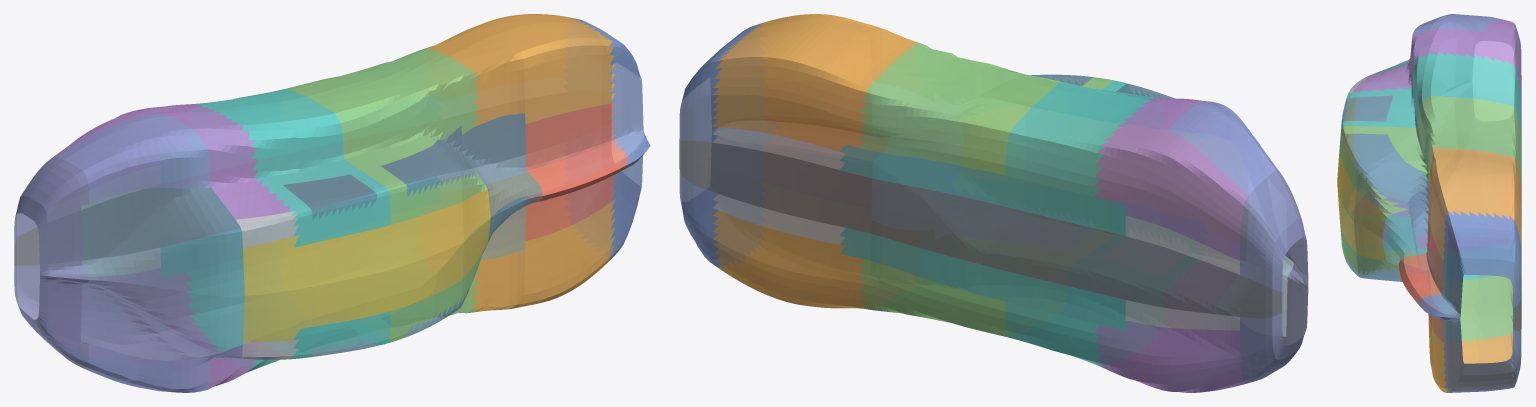
The model's file is modern_car_v2_crossover_surface_partition.glb.
3 views of the same model, side by side, from view 1: azimuth 30°, elevation 25°; view 2: azimuth 150°, elevation 25°; view 3: azimuth 270°, elevation 25° (orthographic). The views are drawn at different scales.
Visible parts, largest first — view 1: aperture_rear_glass, panel_roof, panel_front_door_right, panel_underbody, panel_front_fender_right, panel_rear_hatch, panel_rear_door_right, panel_rear_bumper, panel_front_fender_left, panel_rear_quarter_left, panel_hood, panel_rear_door_left (+8 smaller); view 2: panel_underbody, panel_front_fender_right, panel_front_door_right, panel_rear_quarter_right, panel_rear_door_right, panel_rear_bumper, panel_front_fender_left, panel_fixed_body, panel_rocker_right, panel_rocker_left, panel_rear_quarter_left, panel_front_door_left (+5 smaller); view 3: panel_front_bumper, panel_front_door_right, panel_front_fender_right, panel_rear_door_right, panel_rear_quarter_right, panel_front_door_left, aperture_rear_glass, aperture_front_side_glass_right, panel_roof, panel_hood, aperture_windshield, panel_front_fender_left (+7 smaller).
Part boxes in pixels (x1,y1,x2,y2): aperture_rear_glass: (81,187,244,360); panel_roof: (243,189,490,341); panel_front_door_right: (285,47,487,224); panel_underbody: (14,113,525,265); panel_front_fender_right: (426,14,615,126); panel_rear_hatch: (57,113,211,392); panel_rear_door_right: (196,89,390,247); panel_rear_bumper: (14,157,88,368); panel_front_fender_left: (473,172,615,312); panel_rear_quarter_left: (81,268,258,389); panel_hood: (525,103,630,240); panel_rear_door_left: (186,259,390,371); panel_underbody: (679,141,1282,318); panel_front_fender_right: (712,14,918,151); panel_front_door_right: (859,43,1114,175); panel_rear_quarter_right: (1094,97,1248,260); panel_rear_door_right: (1005,80,1166,196); panel_rear_bumper: (1240,170,1308,383); panel_front_fender_left: (712,210,867,308); panel_fixed_body: (712,127,1239,330); panel_rocker_right: (839,144,1125,236); panel_rocker_left: (840,228,1125,330); panel_rear_quarter_left: (1094,320,1246,392); panel_front_door_left: (859,259,1009,337); panel_front_bumper: (1416,211,1521,392); panel_front_door_right: (1340,95,1521,216); panel_front_fender_right: (1428,146,1521,260); panel_rear_door_right: (1339,52,1521,152); panel_rear_quarter_right: (1353,20,1521,92); panel_front_door_left: (1340,225,1512,342); aperture_rear_glass: (1353,59,1428,201); aperture_front_side_glass_right: (1343,133,1429,208); panel_roof: (1337,97,1386,260); panel_hood: (1398,218,1444,341); aperture_windshield: (1382,199,1428,273); panel_front_fender_left: (1428,314,1512,392).
Bounding box in the file's own units: 4.5 × 1.86 × 1.47.
